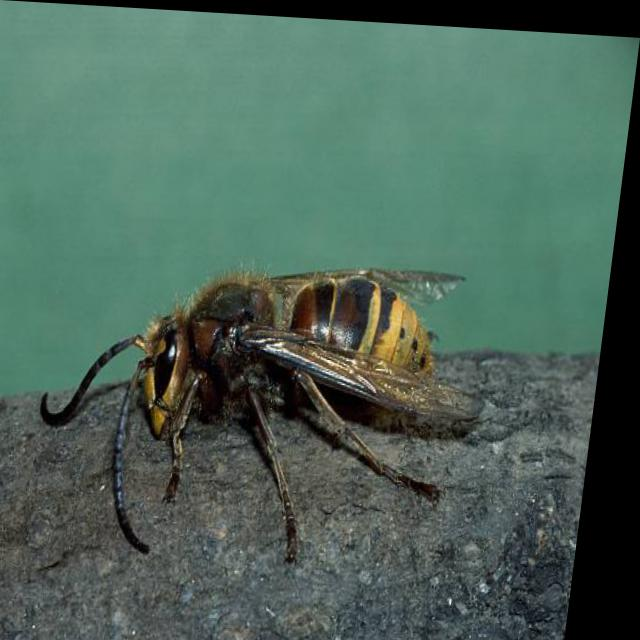Vespa Crabro: (31, 201, 512, 583)
